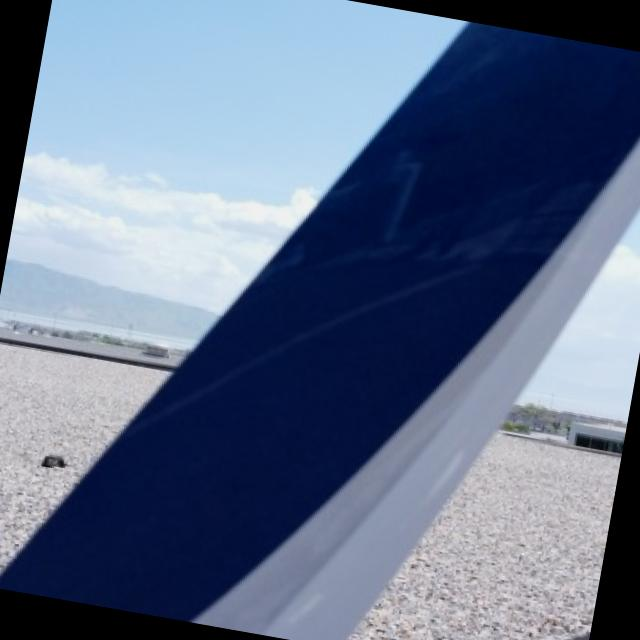healthy: (0, 22, 640, 640)
